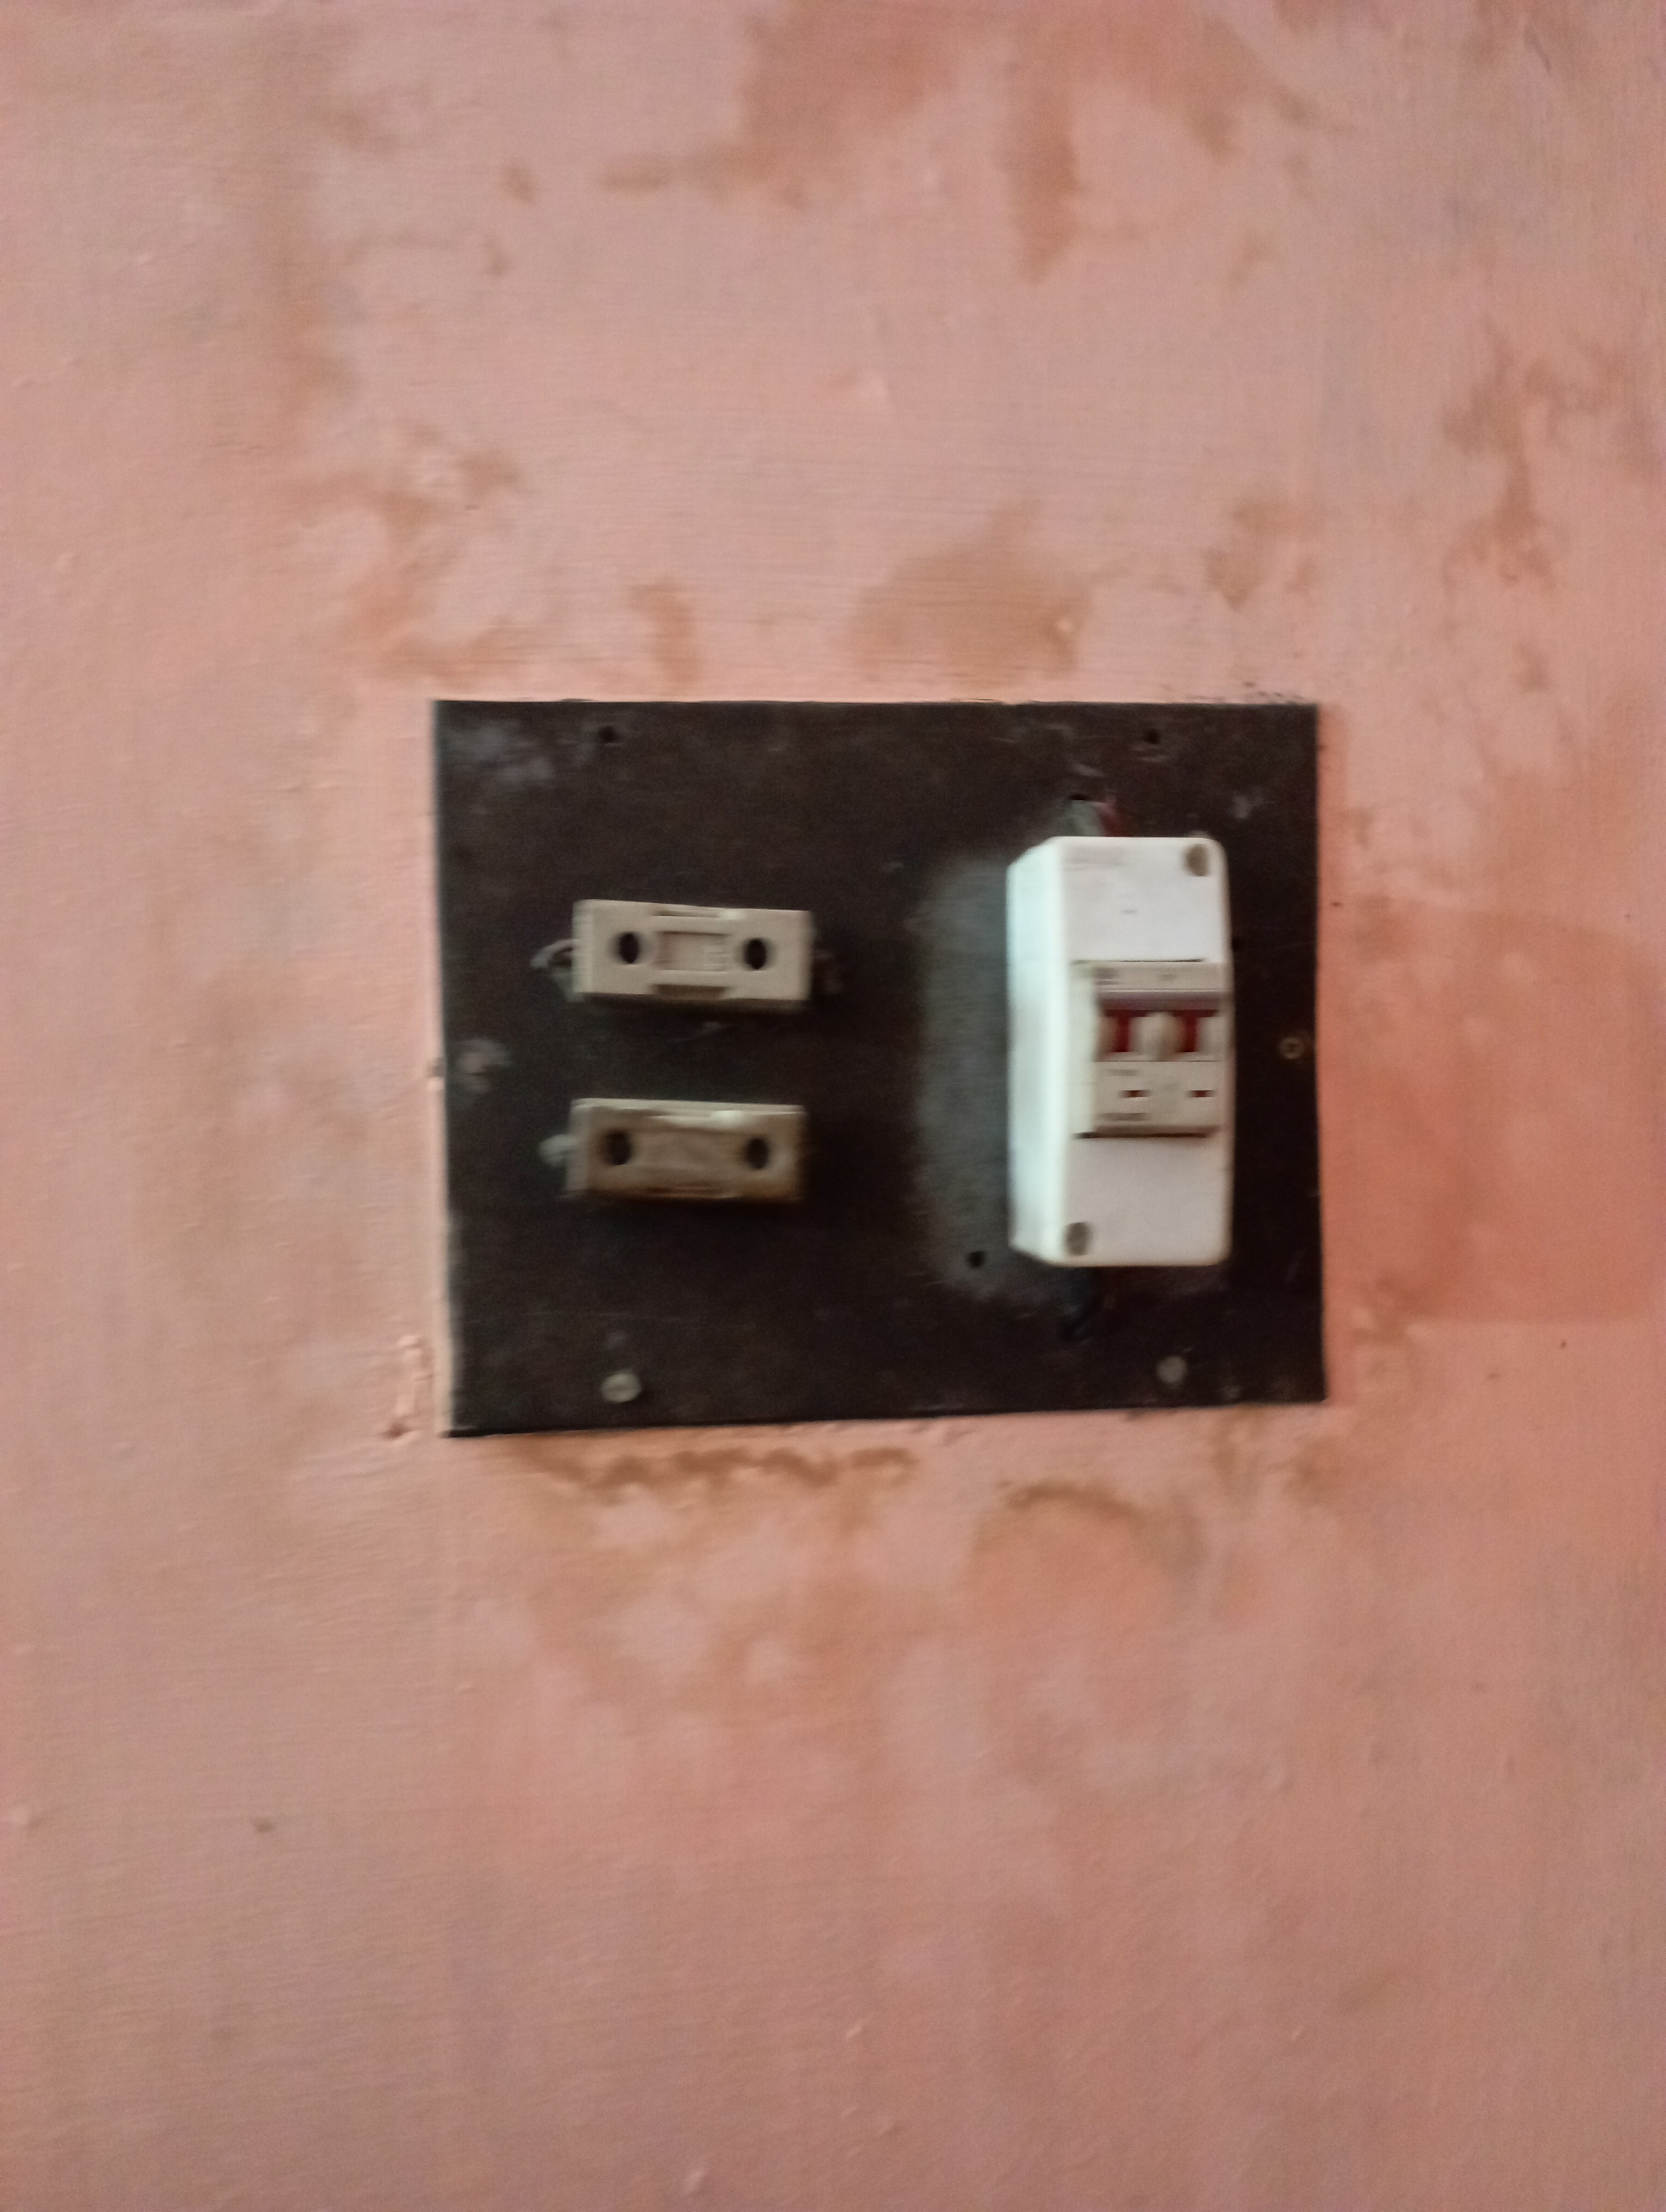ciruit_breaker: (952, 815, 1283, 1304)
fuse: (551, 1084, 842, 1212), (555, 895, 836, 1026)
